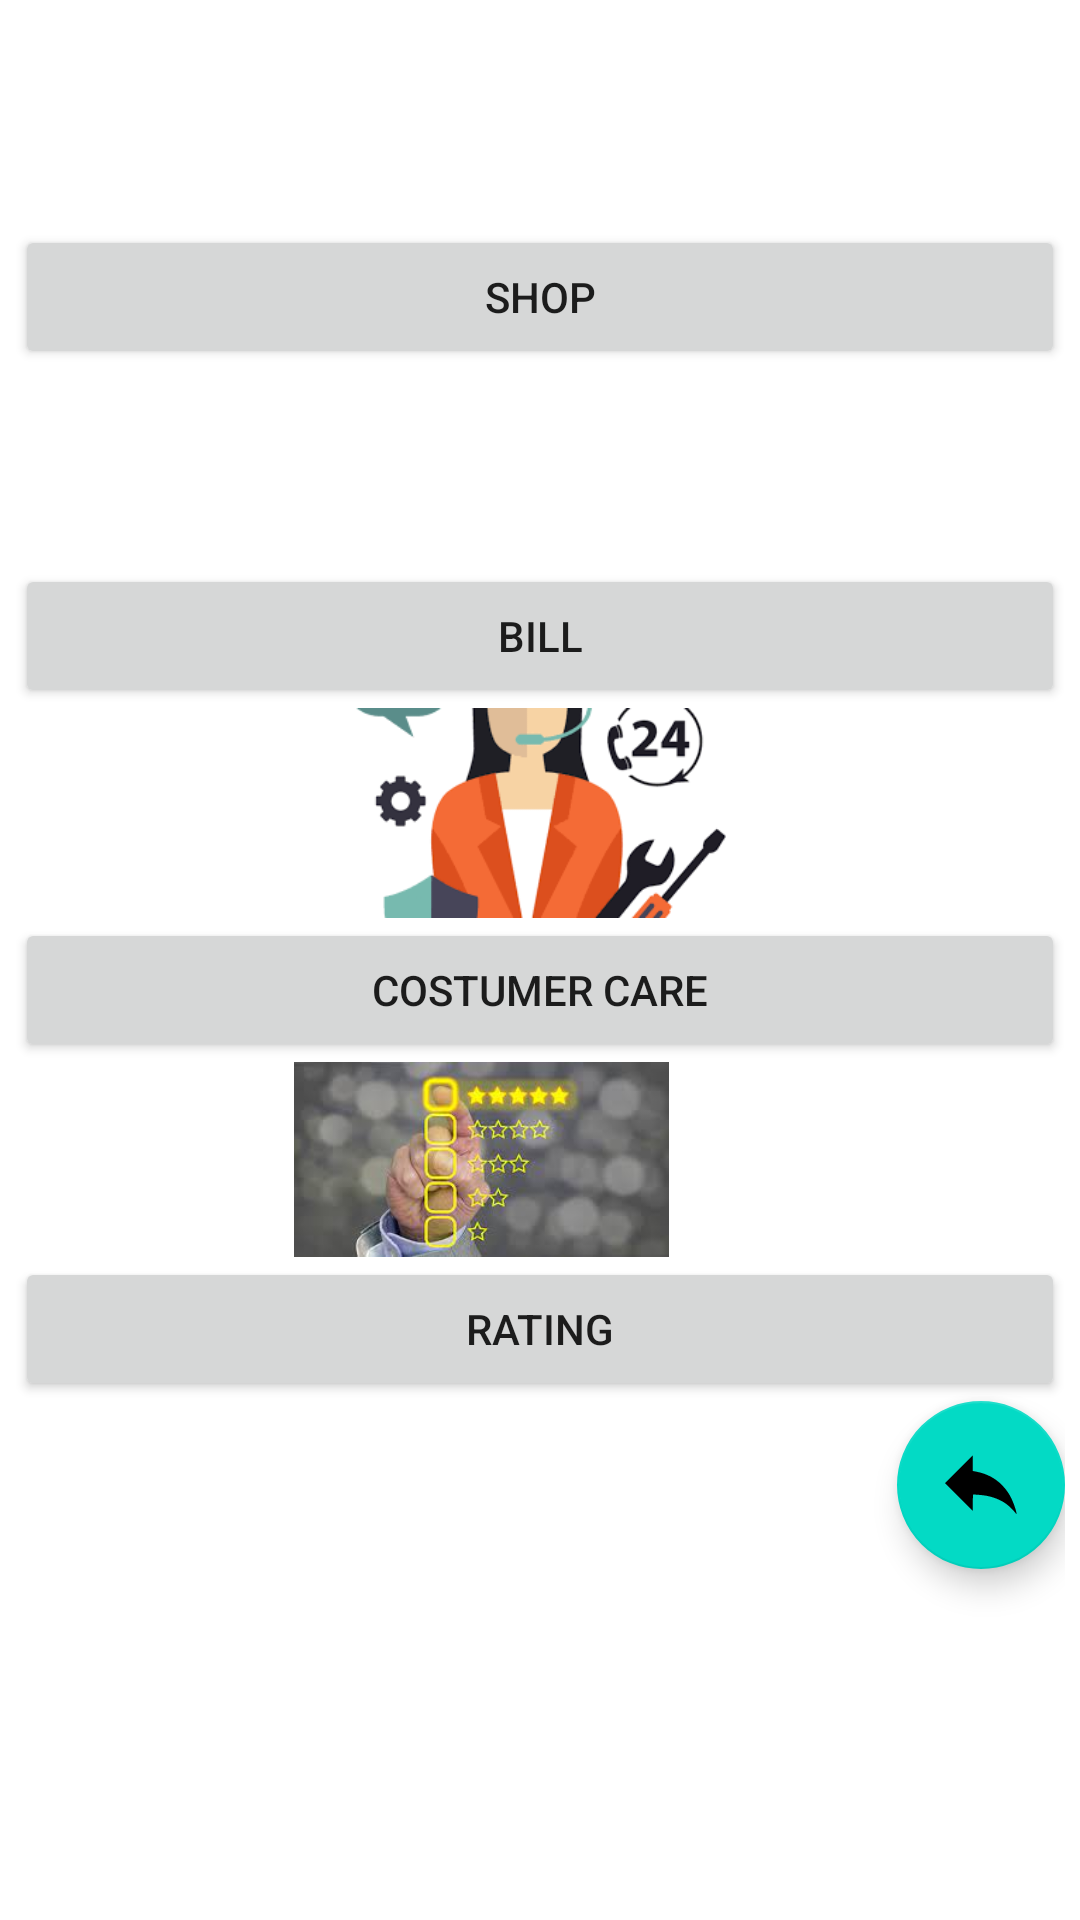

Screen size 1080×1920. Icon name, then its box in pixels as (x1, y1, x2, y2):
bac: (897, 1401, 1065, 1569)
